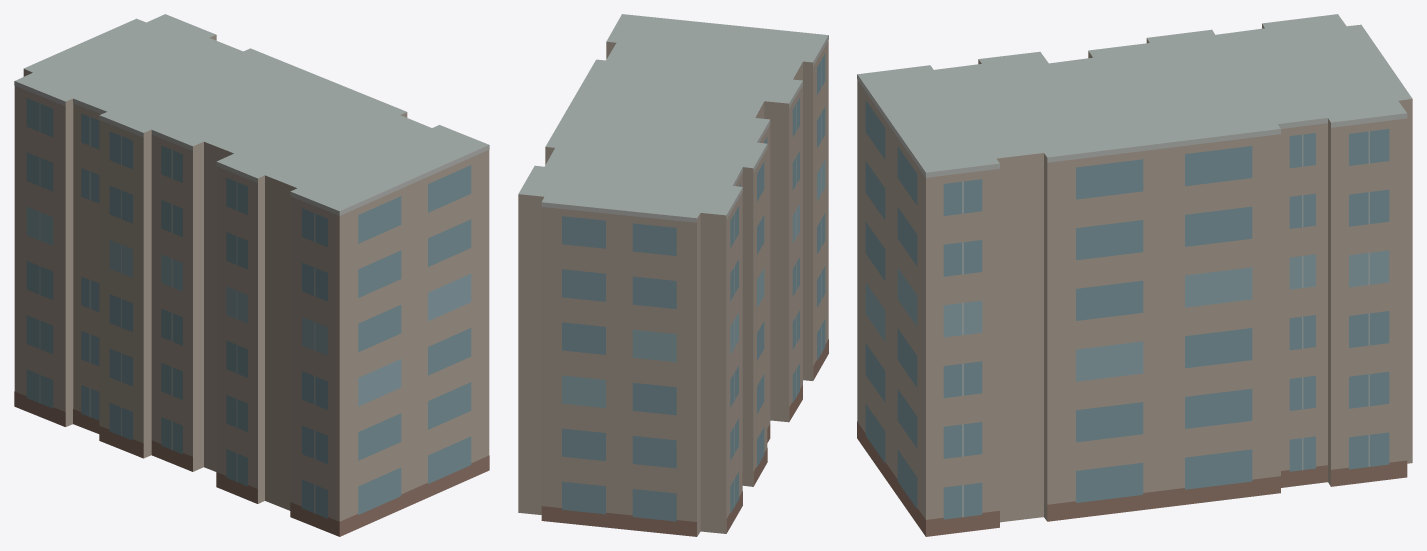
The model's file is survey-upis-32957642.glb.
3 views of the same model, side by side, from view 1: azimuth 30°, elevation 25°; view 2: azimuth 150°, elevation 25°; view 3: azimuth 270°, elevation 25° (orthographic). The views are drawn at different scales.
Visible parts, largest first — view 1: survey-upis-32957642.tmp; view 2: survey-upis-32957642.tmp; view 3: survey-upis-32957642.tmp.
Boxes of the visible parts, x1,y1,x2,y2 form: survey-upis-32957642.tmp: (14, 14, 489, 536); survey-upis-32957642.tmp: (518, 14, 828, 536); survey-upis-32957642.tmp: (857, 14, 1412, 536).
Bounding box in the file's own units: 15.9 × 17 × 23.51.
